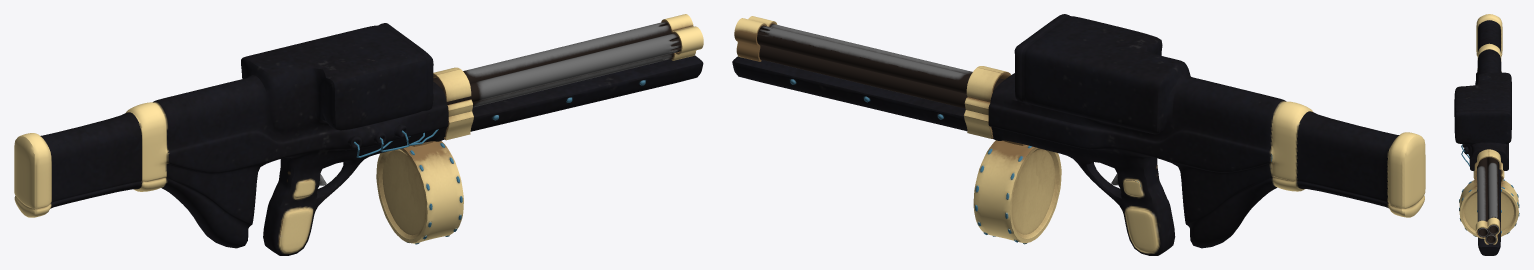
Rendered from Halo2.fbx.
3 views of the same model, side by side, from view 1: azimuth 30°, elevation 25°; view 2: azimuth 150°, elevation 25°; view 3: azimuth 270°, elevation 25° (orthographic). The views are drawn at different scales.
Parts seen in each view (by area): view 1: Cube, Namlu, Cube.003, Cube.001; view 2: Cube, Namlu, Cube.003, Cube.001; view 3: Cube, Namlu, Cube.003, Cube.001.
Part boxes in pixels (<box>): Cube: <box>14,23,703,255</box>; Namlu: <box>433,14,703,107</box>; Cube.003: <box>376,141,463,244</box>; Cube.001: <box>433,67,473,140</box>; Cube: <box>732,14,1425,255</box>; Namlu: <box>734,16,1004,108</box>; Cube.003: <box>973,140,1061,244</box>; Cube.001: <box>964,66,1010,138</box>; Cube: <box>1454,14,1511,255</box>; Namlu: <box>1475,157,1500,244</box>; Cube.003: <box>1459,179,1519,236</box>; Cube.001: <box>1473,149,1504,185</box>.
Bounding box in the file's own units: 778 × 230 × 114.
